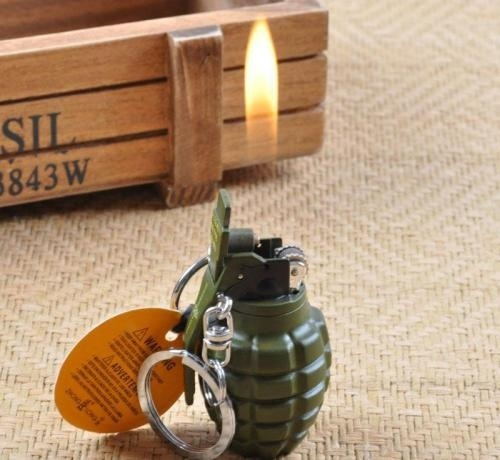fire: (242, 12, 278, 137)
